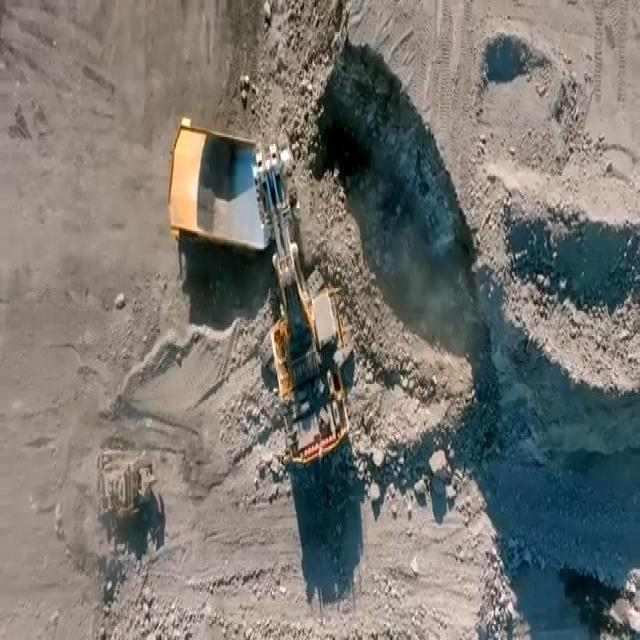excavator: (252, 150, 354, 474)
